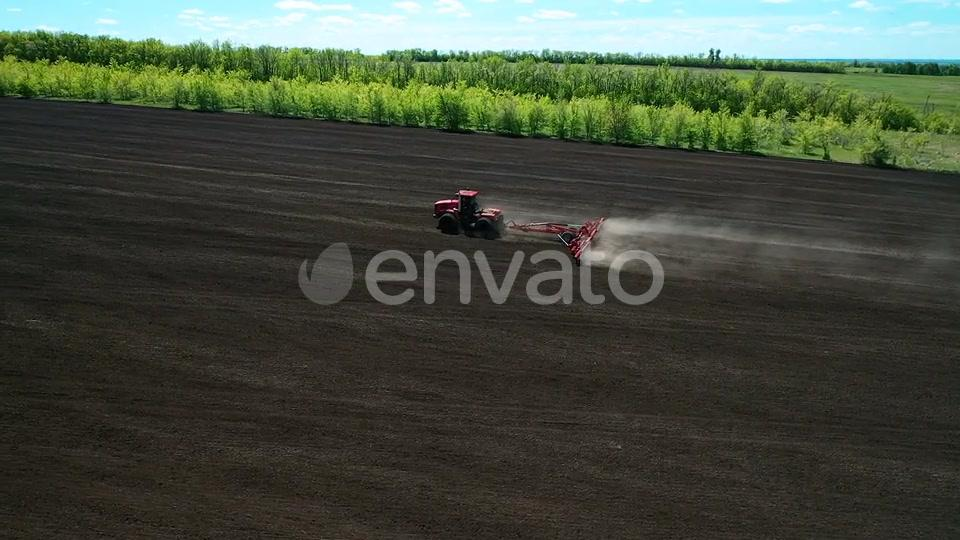tractor: (432, 189, 505, 241)
